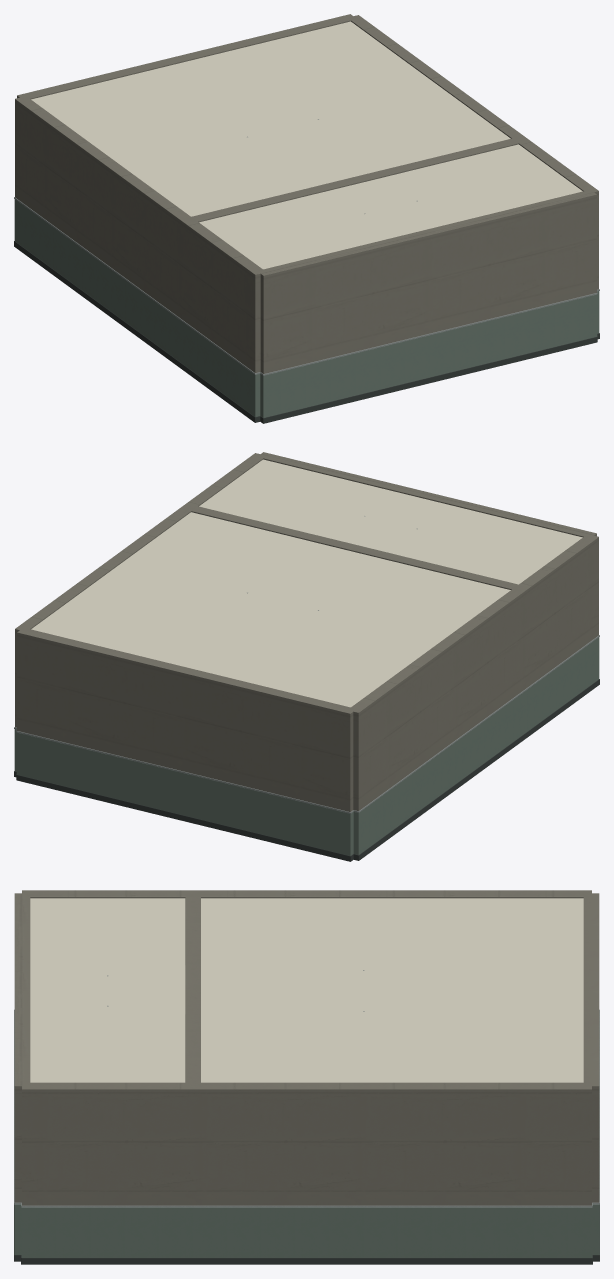
Rendered from foundation_intake.glb.
The picture shows the model from 3 angles, top to bottom: view 1: azimuth 30°, elevation 25°; view 2: azimuth 150°, elevation 25°; view 3: azimuth 270°, elevation 25°; orthographic projection. The views are drawn at different scales.
Visible parts, largest first — view 1: foundation_intake / power_plaster, foundation_intake / power_instrument_ivory, foundation_intake / power_sage_enamel, foundation_intake / power_blackened_steel, foundation_intake / power_galvanized; view 2: foundation_intake / power_plaster, foundation_intake / power_instrument_ivory, foundation_intake / power_sage_enamel, foundation_intake / power_blackened_steel, foundation_intake / power_galvanized; view 3: foundation_intake / power_instrument_ivory, foundation_intake / power_plaster, foundation_intake / power_sage_enamel, foundation_intake / power_blackened_steel, foundation_intake / power_galvanized.
Part boxes in pixels (box(x1,y1,x2,y2)): foundation_intake / power_plaster: box(15, 14, 598, 373); foundation_intake / power_instrument_ivory: box(31, 21, 582, 269); foundation_intake / power_sage_enamel: box(14, 199, 599, 417); foundation_intake / power_blackened_steel: box(14, 241, 599, 423); foundation_intake / power_galvanized: box(14, 119, 599, 375); foundation_intake / power_plaster: box(15, 452, 598, 811); foundation_intake / power_instrument_ivory: box(31, 459, 582, 707); foundation_intake / power_sage_enamel: box(14, 637, 599, 855); foundation_intake / power_blackened_steel: box(14, 679, 599, 861); foundation_intake / power_galvanized: box(14, 516, 599, 813); foundation_intake / power_instrument_ivory: box(30, 898, 583, 1082); foundation_intake / power_plaster: box(14, 890, 599, 1205); foundation_intake / power_sage_enamel: box(14, 1204, 599, 1257); foundation_intake / power_blackened_steel: box(14, 1205, 599, 1264); foundation_intake / power_galvanized: box(14, 970, 599, 1207).
Bounding box in the file's own units: 8.3 × 3.4 × 10.3.
8 materials, 4 textured.
